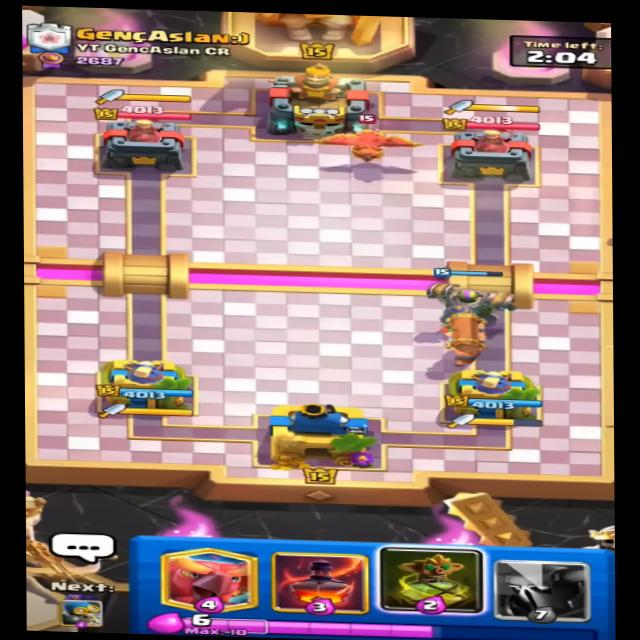phoenix: (308, 112, 426, 163)
